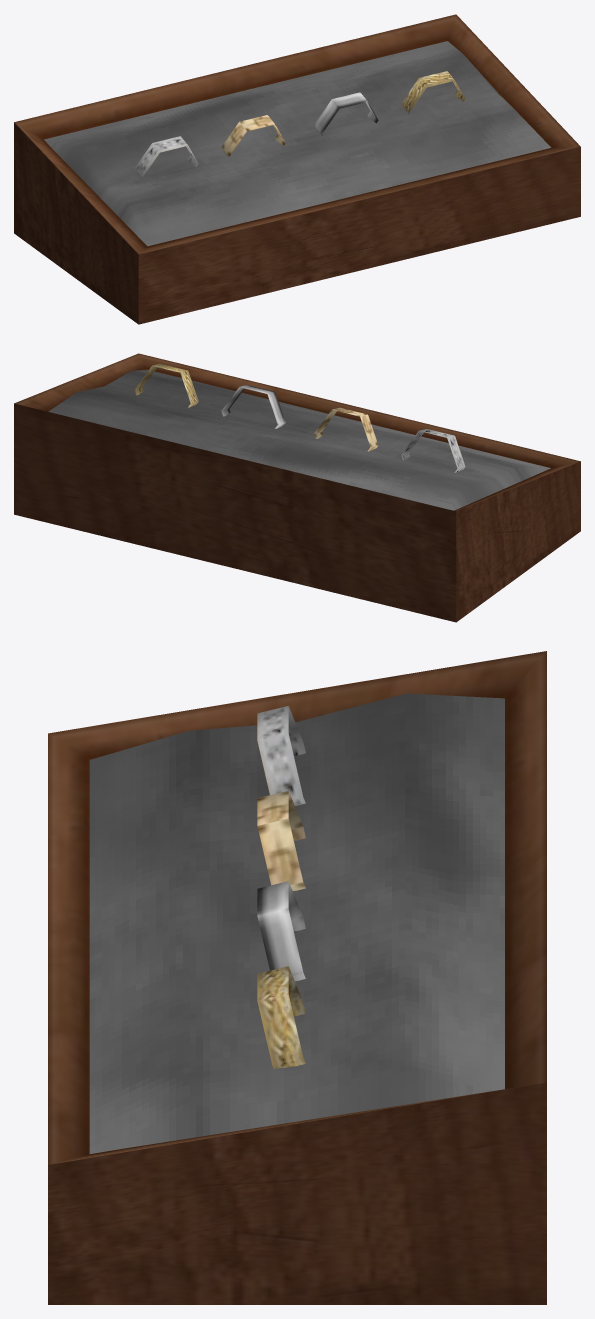
The model's file is shop_jeweler_ringBox03.fbx.
The picture shows the model from 3 angles, top to bottom: view 1: azimuth 30°, elevation 25°; view 2: azimuth 150°, elevation 25°; view 3: azimuth 270°, elevation 25°; orthographic projection. The views are drawn at different scales.
Parts seen in each view (by area): view 1: ringBox_wood, ringBox_velvet, rinBox_ring02, rinBox_ring04, rinBox_ring01, rinBox_ring03; view 2: ringBox_wood, ringBox_velvet, rinBox_ring01, rinBox_ring02, rinBox_ring04, rinBox_ring03; view 3: ringBox_velvet, ringBox_wood, rinBox_ring02, rinBox_ring04, rinBox_ring03, rinBox_ring01.
Part boxes in pixels (x1=…): ringBox_wood: x1=14, y1=14, x2=580, y2=324; ringBox_velvet: x1=44, y1=41, x2=551, y2=246; rinBox_ring02: x1=401, y1=71, x2=465, y2=114; rinBox_ring04: x1=221, y1=115, x2=285, y2=158; rinBox_ring01: x1=314, y1=92, x2=378, y2=135; rinBox_ring03: x1=134, y1=136, x2=198, y2=179; ringBox_wood: x1=14, y1=353, x2=580, y2=622; ringBox_velvet: x1=48, y1=369, x2=550, y2=510; rinBox_ring01: x1=221, y1=385, x2=285, y2=428; rinBox_ring02: x1=134, y1=363, x2=198, y2=407; rinBox_ring04: x1=314, y1=407, x2=378, y2=451; rinBox_ring03: x1=401, y1=429, x2=465, y2=472; ringBox_velvet: x1=89, y1=693, x2=504, y2=1153; ringBox_wood: x1=48, y1=651, x2=546, y2=1304; rinBox_ring02: x1=257, y1=966, x2=305, y2=1068; rinBox_ring04: x1=257, y1=790, x2=305, y2=890; rinBox_ring03: x1=257, y1=706, x2=305, y2=805; rinBox_ring01: x1=257, y1=881, x2=305, y2=981.
Bounding box in the file's own units: 62.03 × 16.04 × 30.29.
3 materials, 3 textured.
